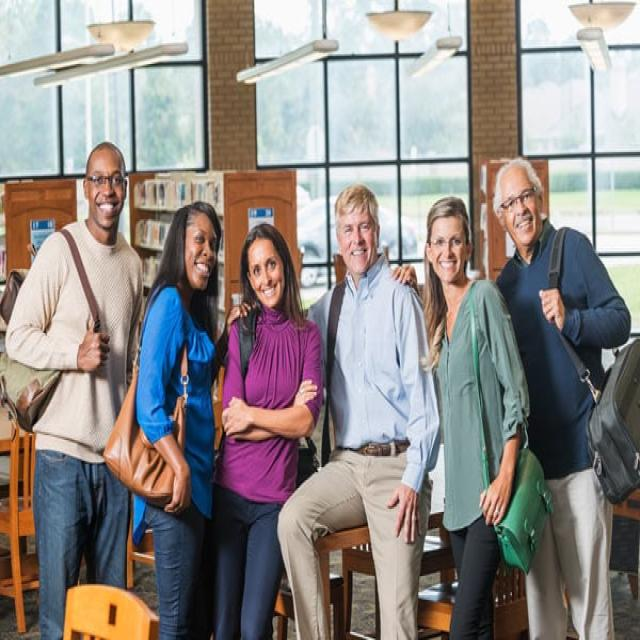adult: (274, 183, 441, 640), (1, 142, 143, 640), (487, 161, 632, 640), (392, 196, 528, 640), (219, 224, 322, 640), (132, 200, 223, 640)
